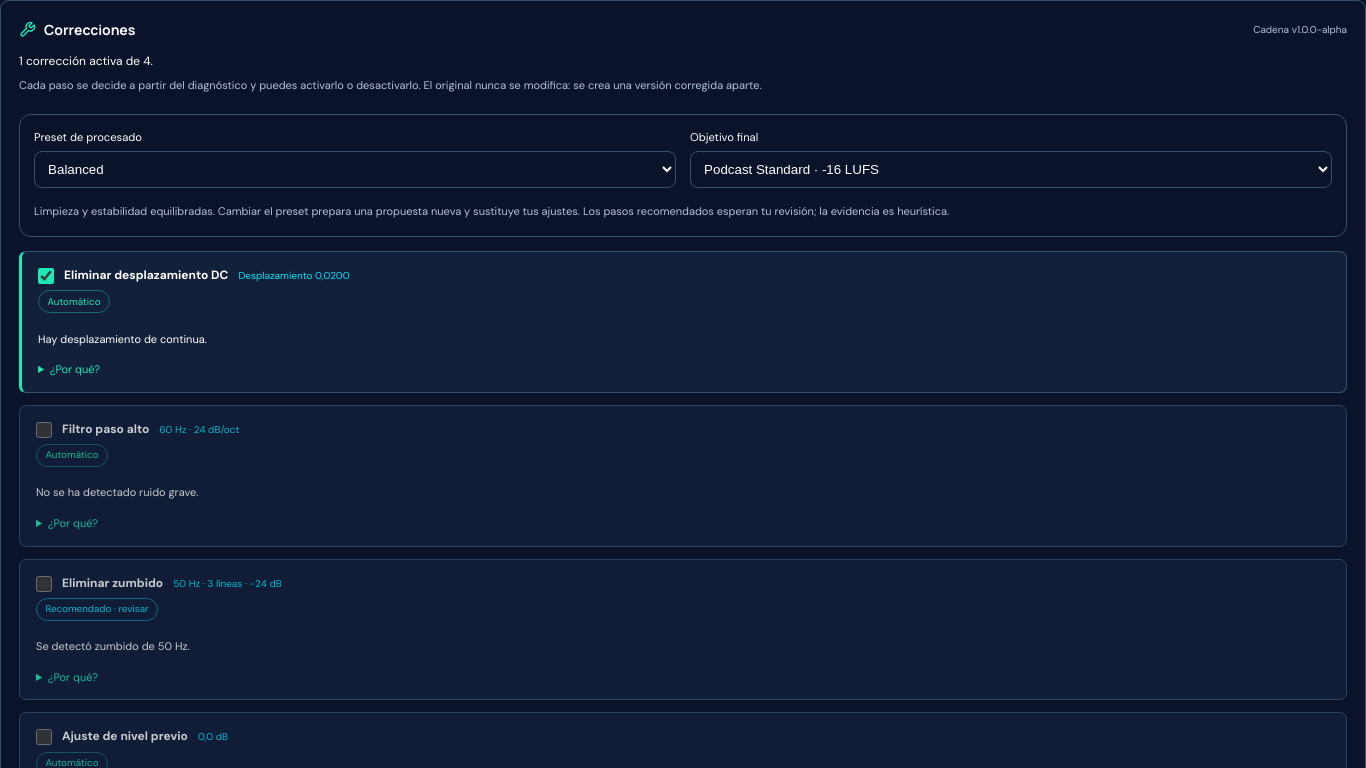
it: prepares a new preset and resets manual choices while retaining the published result
This screenshot has width=1366, height=768.
Check: the text "Recomendado · revisar" is shown, box [36,598,158,621]
Click the checkbox labelled "Eliminar zumbido 50 Hz · 3 líneas · −24 dB" at (44,584), box [36,576,52,592]
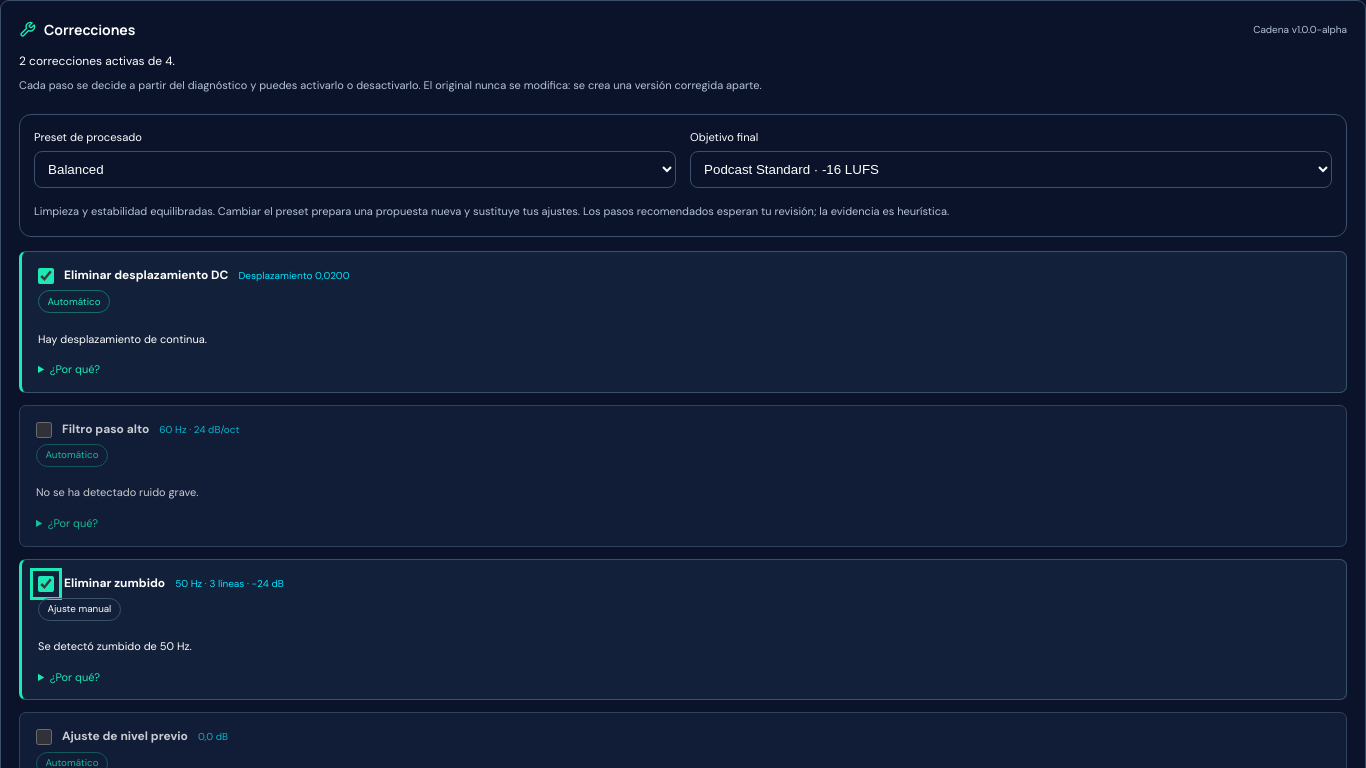
Check: the text "Ajuste manual" is shown, box [38,598,121,621]
Select "Natural" in the dropdown labelled "Preset de procesado" at (355,170), box [34,151,676,188]
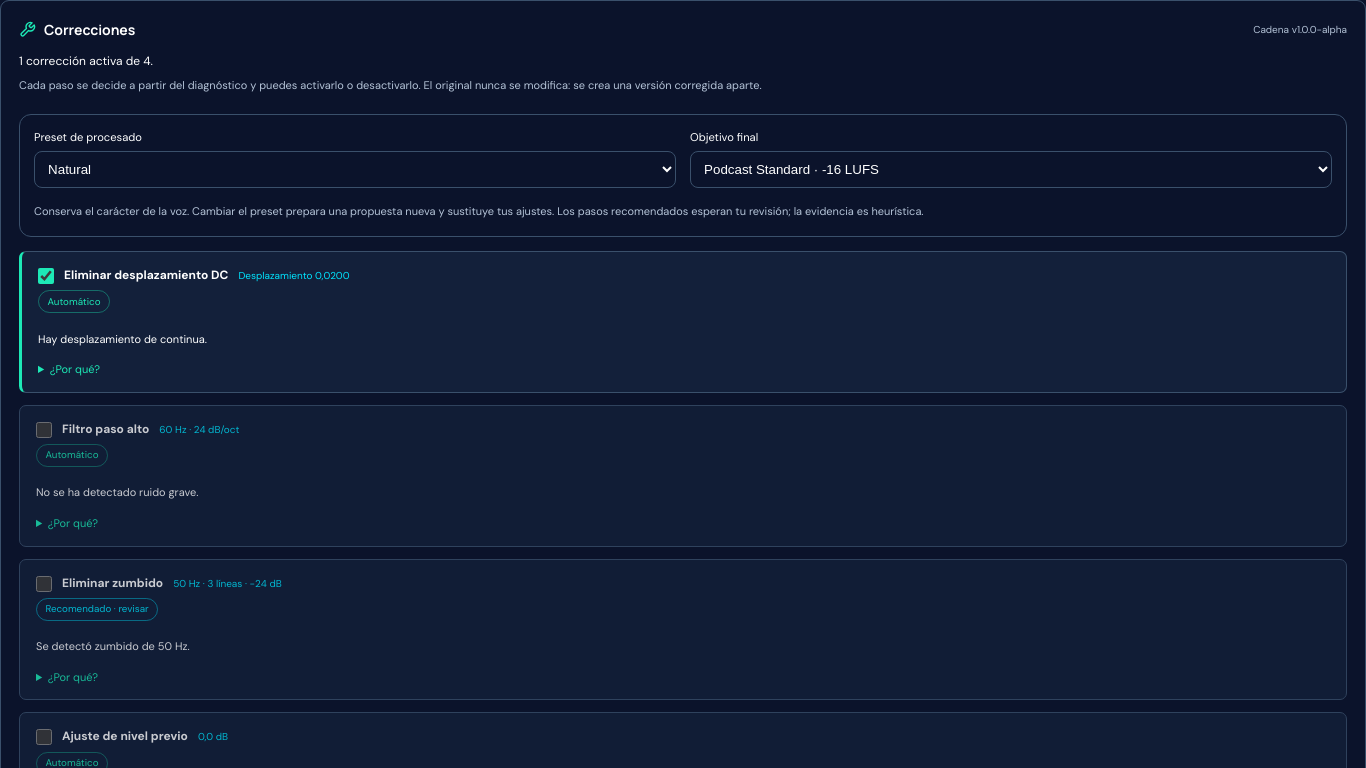
Check: the checkbox labelled "Eliminar zumbido 50 Hz · 3 líneas · −24 dB" is not checked, box [36,576,52,592]
